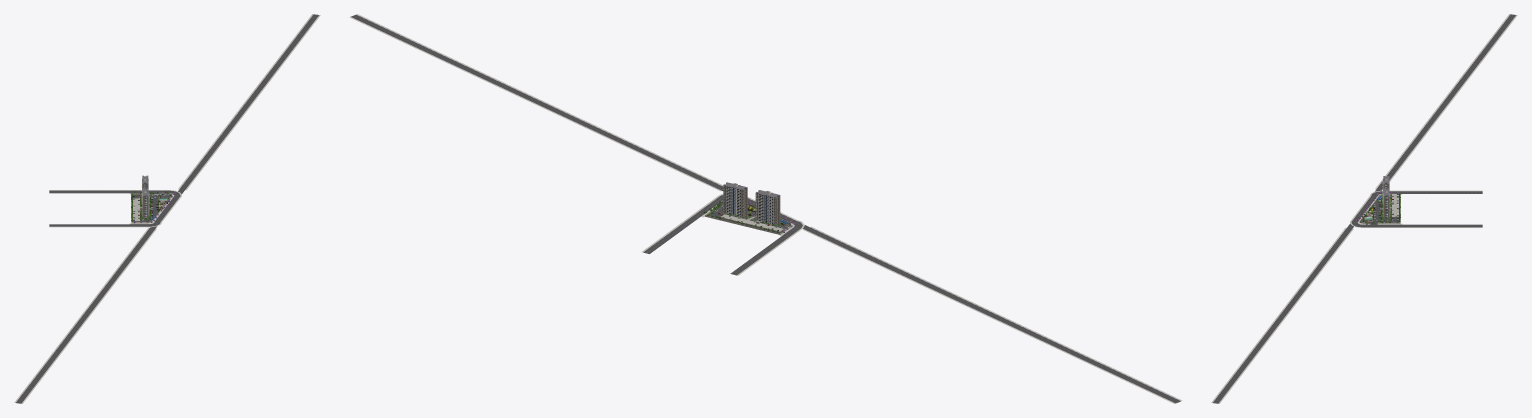
The model's file is alta-vista.glb.
The picture shows the model from 3 angles, left to right: view 1: azimuth 90°, elevation 25°; view 2: azimuth 150°, elevation 25°; view 3: azimuth 270°, elevation 25°; orthographic projection. The views are drawn at different scales.
Visible parts, largest first — view 1: entorno-rua, terreno; view 2: entorno-rua, torre-2, torre-1; view 3: entorno-rua, terreno.
Part boxes in pixels (left/top/right/bottom): entorno-rua: left=14, top=14, right=320, bottom=403; terreno: left=129, top=193, right=174, bottom=224; entorno-rua: left=349, top=14, right=1182, bottom=403; torre-2: left=755, top=190, right=780, bottom=226; torre-1: left=723, top=182, right=747, bottom=218; entorno-rua: left=1211, top=14, right=1517, bottom=403; terreno: left=1357, top=193, right=1402, bottom=224.
Size of what is drawn, in the model's own units: 1838 by 55.5 by 611.
143 materials, 77 textured.
